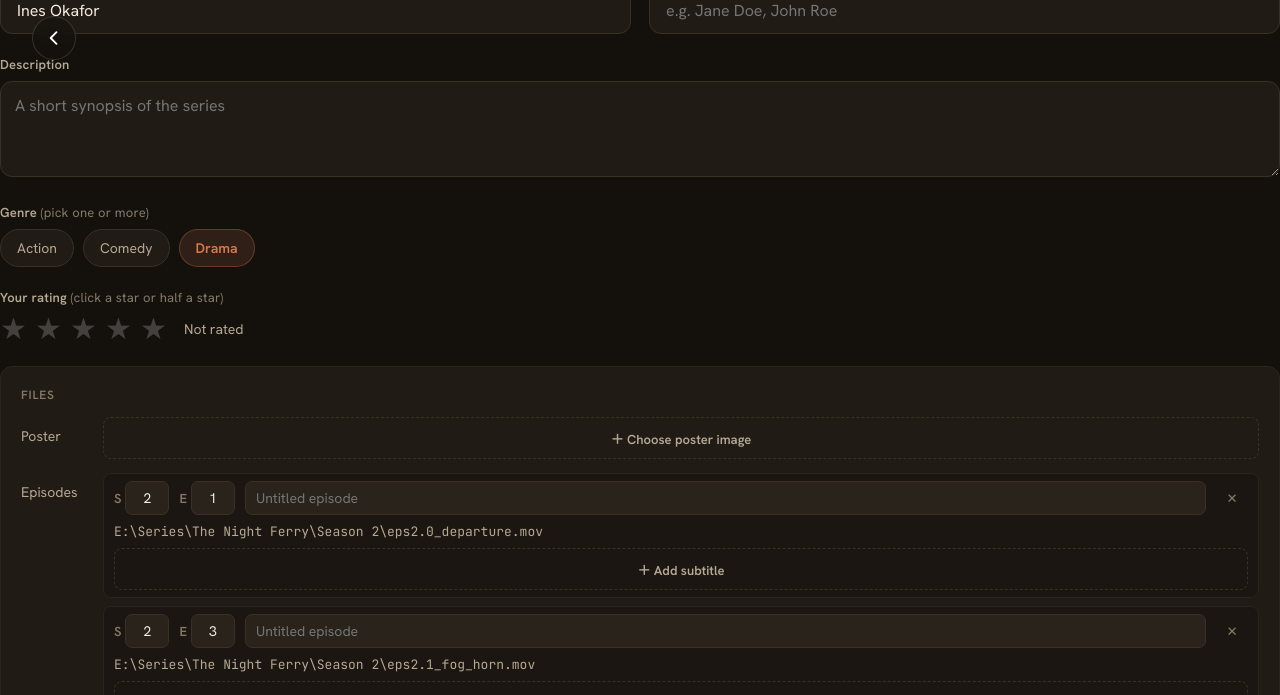
Test: MovieForm — the Series Resolve, a show not yet held › says why Save is closed, under the row that closes it, and on its field
(page scrolled)
Replace the text in the field named "Episode" with "1" at (213, 631), box [191,614,235,648]
(page scrolled)
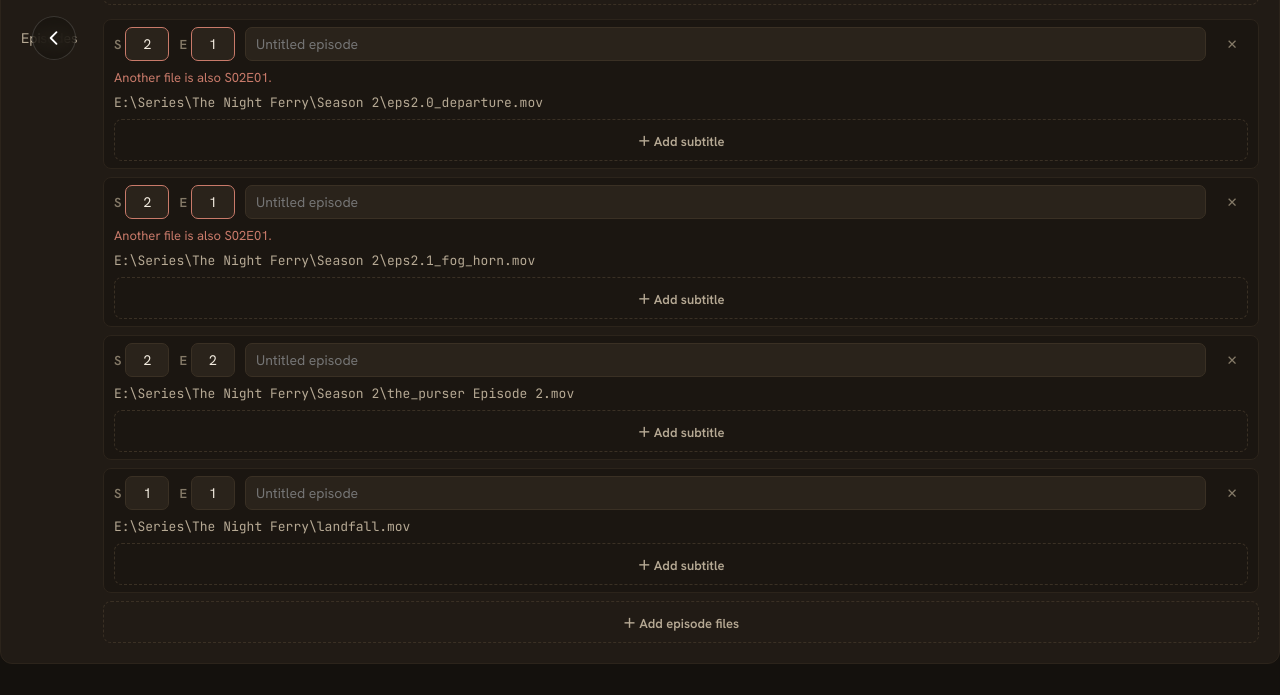
Now the text "Another file is also S02E01." is shown 2 times, box [114,69,272,86]; [114,227,272,244]
